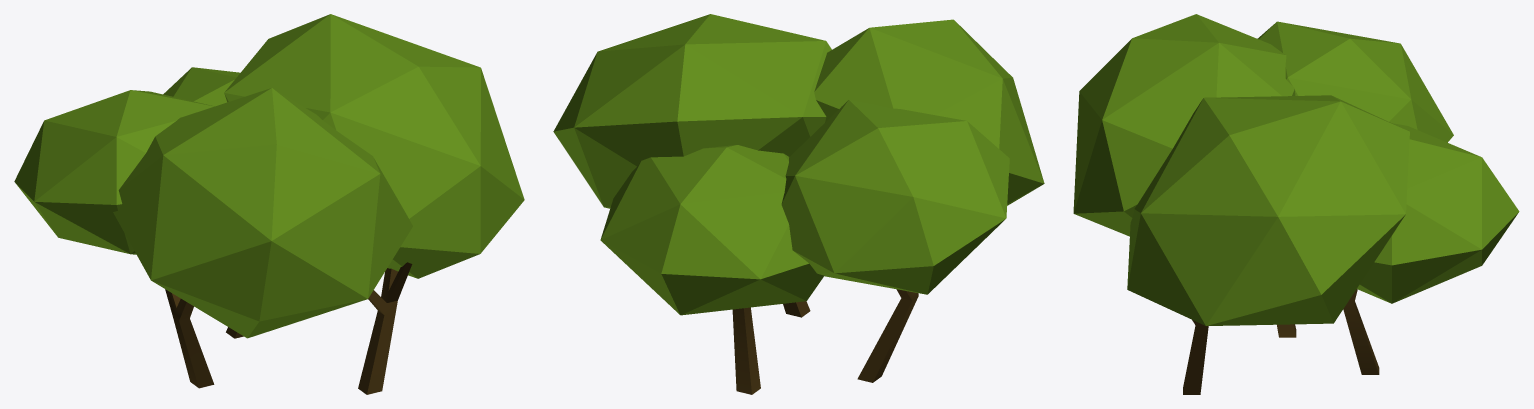
Rendered from bush_2.fbx.
The picture shows the model from 3 angles, left to right: view 1: azimuth 30°, elevation 25°; view 2: azimuth 150°, elevation 25°; view 3: azimuth 270°, elevation 25°; orthographic projection. The views are drawn at different scales.
Parts seen in each view (by area): view 1: GeoSphere042, GeoSphere041, GeoSphere040, Box005, GeoSphere039; view 2: GeoSphere040, GeoSphere041, GeoSphere039, GeoSphere042, Box005; view 3: GeoSphere041, GeoSphere042, GeoSphere039, GeoSphere040, Box005.
Boxes of the visible parts, x1=… form: GeoSphere042: x1=113, y1=88, x2=412, y2=338; GeoSphere041: x1=224, y1=14, x2=524, y2=278; GeoSphere040: x1=14, y1=90, x2=214, y2=254; Box005: x1=165, y1=262, x2=412, y2=394; GeoSphere039: x1=163, y1=67, x2=240, y2=106; GeoSphere040: x1=781, y1=100, x2=1009, y2=294; GeoSphere041: x1=553, y1=14, x2=831, y2=208; GeoSphere039: x1=600, y1=145, x2=824, y2=315; GeoSphere042: x1=814, y1=19, x2=1044, y2=205; Box005: x1=732, y1=289, x2=918, y2=394; GeoSphere041: x1=1127, y1=95, x2=1409, y2=325; GeoSphere042: x1=1073, y1=14, x2=1295, y2=236; GeoSphere039: x1=1357, y1=123, x2=1519, y2=303; GeoSphere040: x1=1257, y1=21, x2=1453, y2=142; Box005: x1=1183, y1=289, x2=1379, y2=394.
Size of the model in its own units: 87.46 by 58.36 by 76.59.
